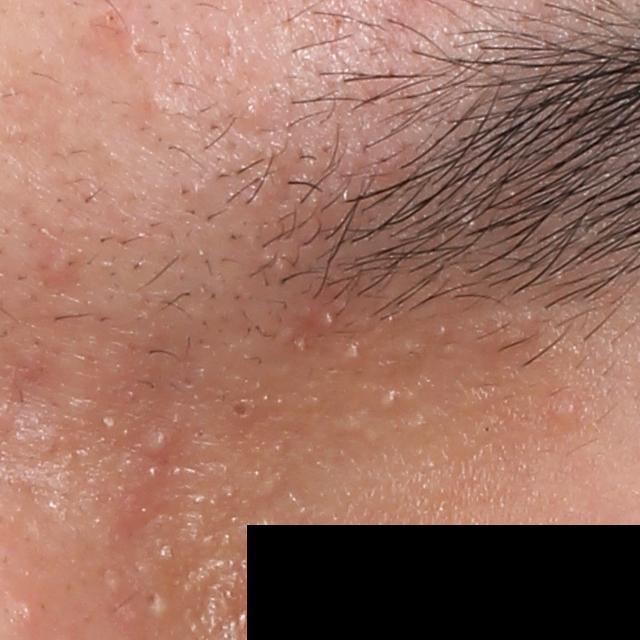comedo: (222, 391, 259, 422), (234, 99, 264, 127), (380, 390, 403, 411), (342, 344, 364, 364), (320, 309, 339, 330), (18, 600, 35, 623), (102, 10, 121, 26)
